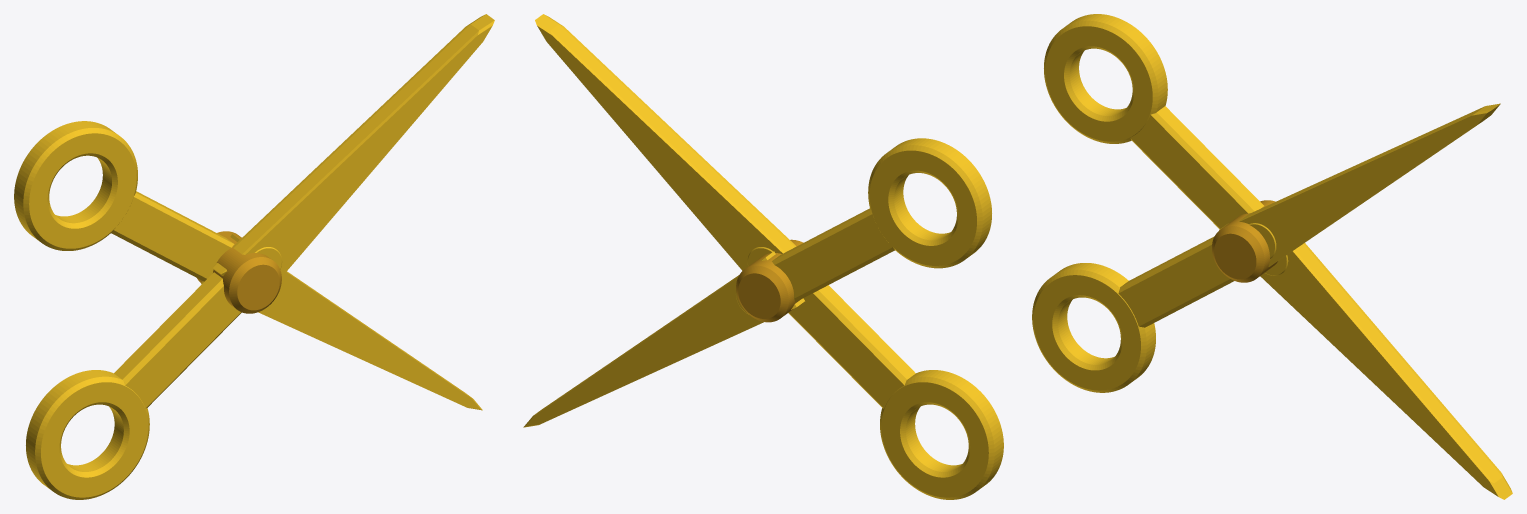
Rendered from modelo_getcutt_tesoura_barbeiro.glb.
3 views of the same model, side by side, from view 1: azimuth 30°, elevation 25°; view 2: azimuth 150°, elevation 25°; view 3: azimuth 330°, elevation 25° (orthographic).
Visible parts, largest first — view 1: Tesoura_GetCutt; view 2: Tesoura_GetCutt; view 3: Tesoura_GetCutt.
Boxes of the visible parts, x1,y1,x2,y2 form: Tesoura_GetCutt: (14, 14, 494, 499); Tesoura_GetCutt: (523, 14, 1003, 499); Tesoura_GetCutt: (1032, 14, 1512, 499).
Size of the model in its own units: 2.12 by 1.76 by 0.33.
